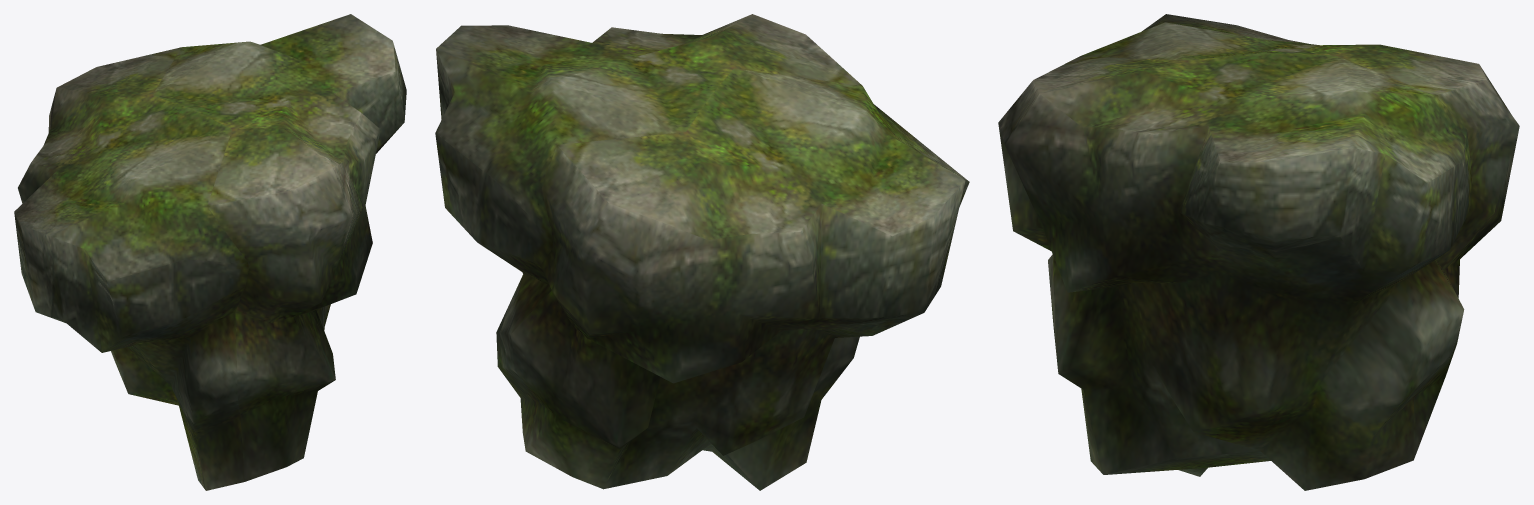
Rendered from S_Rock_Green043.FBX.
3 views of the same model, side by side, from view 1: azimuth 30°, elevation 25°; view 2: azimuth 150°, elevation 25°; view 3: azimuth 270°, elevation 25° (orthographic). The views are drawn at different scales.
Parts seen in each view (by area): view 1: S_Rock_Green043; view 2: S_Rock_Green043; view 3: S_Rock_Green043.
Boxes of the visible parts, box(x1,y1,x2,y2) form: S_Rock_Green043: box(14, 14, 406, 490); S_Rock_Green043: box(435, 14, 969, 490); S_Rock_Green043: box(998, 14, 1519, 490).
Size of the model in its own units: 725 by 636 by 654.
